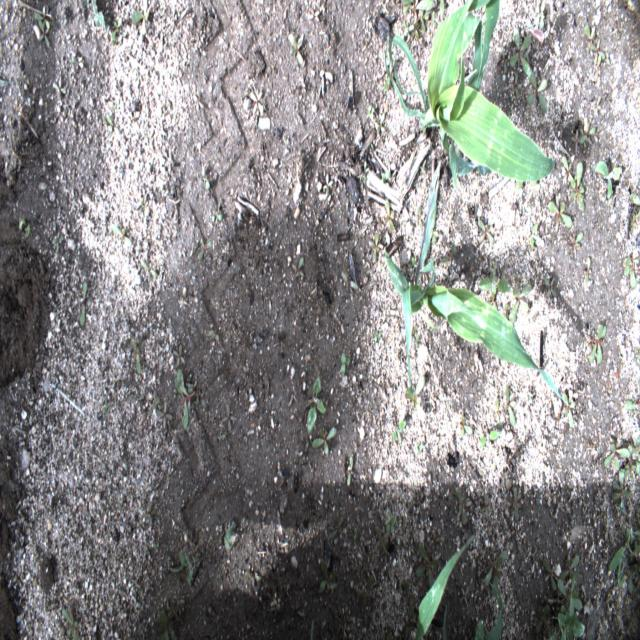crop: (384, 160, 568, 406), (385, 0, 557, 206), (415, 536, 504, 638)
weed: (174, 369, 208, 432), (608, 527, 640, 588), (477, 258, 511, 300), (482, 549, 508, 596), (159, 596, 186, 639), (168, 549, 200, 585), (306, 376, 326, 433), (594, 160, 622, 200), (415, 542, 440, 586), (509, 27, 531, 76), (548, 612, 586, 640), (508, 282, 532, 326), (546, 195, 573, 233), (526, 70, 548, 113), (586, 322, 607, 365), (130, 0, 155, 36), (557, 578, 583, 612), (611, 469, 630, 515), (603, 443, 631, 472), (570, 162, 586, 212), (311, 426, 338, 455), (81, 0, 105, 30), (454, 486, 472, 525), (400, 0, 433, 21), (401, 604, 420, 640), (559, 553, 580, 585), (218, 519, 237, 554), (624, 248, 640, 289), (504, 486, 522, 522), (405, 375, 425, 407), (288, 32, 304, 68), (111, 223, 133, 249), (319, 560, 336, 592), (560, 392, 575, 428), (139, 257, 158, 284), (62, 607, 78, 639), (374, 526, 390, 558), (579, 117, 596, 146), (542, 556, 556, 591), (515, 168, 537, 190), (504, 386, 516, 426), (242, 570, 266, 590), (569, 571, 579, 618), (590, 38, 605, 69), (222, 404, 237, 434), (158, 401, 174, 429), (562, 156, 576, 188), (535, 605, 550, 634), (368, 229, 380, 265), (37, 18, 50, 50), (249, 90, 265, 116), (476, 221, 494, 244), (569, 232, 584, 259), (34, 6, 50, 31), (130, 337, 141, 373), (341, 270, 359, 292), (478, 430, 500, 448), (625, 564, 638, 594), (398, 20, 414, 44), (627, 433, 640, 462), (384, 199, 395, 233), (80, 281, 88, 327), (291, 256, 305, 282), (392, 420, 406, 446), (52, 75, 67, 99), (358, 576, 372, 601), (384, 57, 394, 92), (534, 0, 546, 29), (329, 517, 344, 540), (479, 494, 493, 518), (584, 24, 596, 52), (197, 238, 212, 260), (570, 128, 583, 153), (106, 113, 120, 136), (110, 16, 123, 40), (544, 276, 556, 302), (529, 222, 541, 248), (418, 4, 428, 35), (17, 218, 31, 240), (322, 172, 334, 197), (431, 0, 443, 25), (266, 590, 280, 611), (398, 514, 407, 546), (51, 230, 64, 252), (630, 192, 640, 220), (173, 343, 185, 366), (205, 326, 222, 342), (583, 256, 592, 286), (430, 530, 444, 549), (144, 504, 156, 526), (359, 160, 370, 184), (192, 90, 205, 110), (612, 18, 623, 41), (70, 54, 84, 72), (443, 246, 456, 265), (461, 415, 472, 437), (346, 456, 354, 486), (622, 399, 640, 412), (201, 166, 210, 191), (0, 77, 28, 85), (385, 513, 396, 533), (340, 352, 350, 374), (487, 291, 497, 313), (580, 127, 590, 149), (622, 461, 634, 479), (459, 585, 470, 604), (102, 396, 111, 419), (409, 21, 419, 41), (408, 256, 418, 276), (495, 396, 501, 429), (308, 7, 320, 23), (382, 169, 391, 190), (103, 114, 113, 132), (514, 68, 520, 98), (595, 53, 601, 83), (501, 49, 508, 74), (377, 112, 385, 133), (560, 604, 571, 619), (139, 195, 147, 213), (613, 601, 621, 619), (211, 209, 222, 222), (430, 227, 438, 244), (525, 395, 533, 412), (630, 213, 637, 232), (414, 441, 424, 454), (417, 207, 423, 228), (592, 95, 601, 109), (112, 34, 124, 44), (367, 106, 375, 120), (419, 159, 426, 175), (372, 279, 382, 290), (131, 394, 140, 406), (410, 334, 419, 346), (310, 618, 315, 639), (411, 321, 418, 336), (633, 347, 640, 362), (374, 330, 382, 343), (152, 398, 160, 410), (353, 526, 357, 542), (636, 180, 640, 194), (606, 52, 610, 65), (631, 397, 636, 407), (282, 135, 287, 144), (338, 206, 343, 215), (556, 590, 560, 601), (153, 542, 159, 548), (201, 341, 204, 349)
